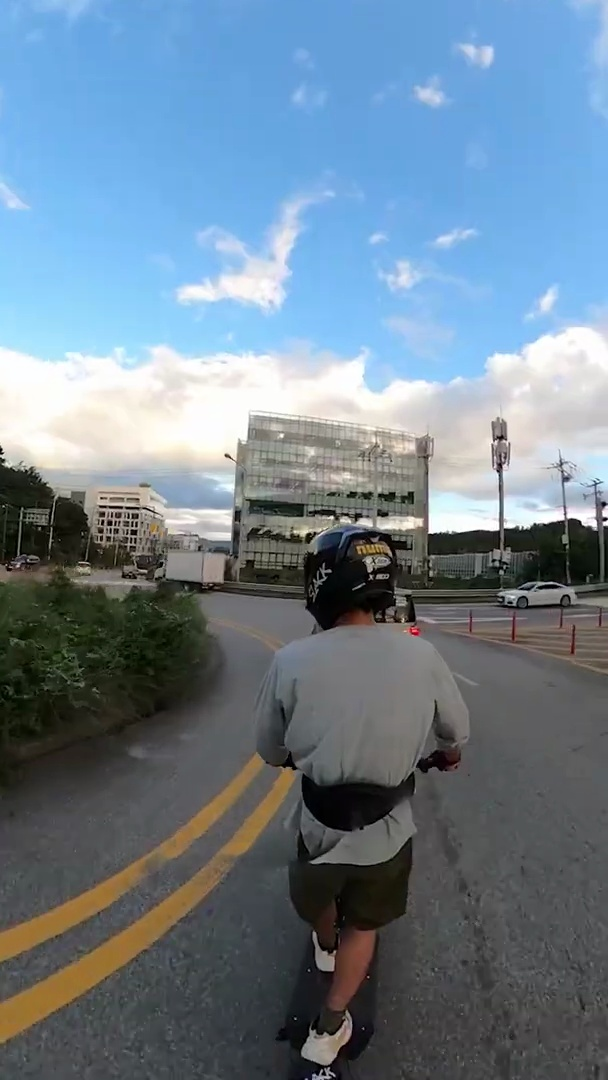helmet: (250, 521, 473, 1080)
